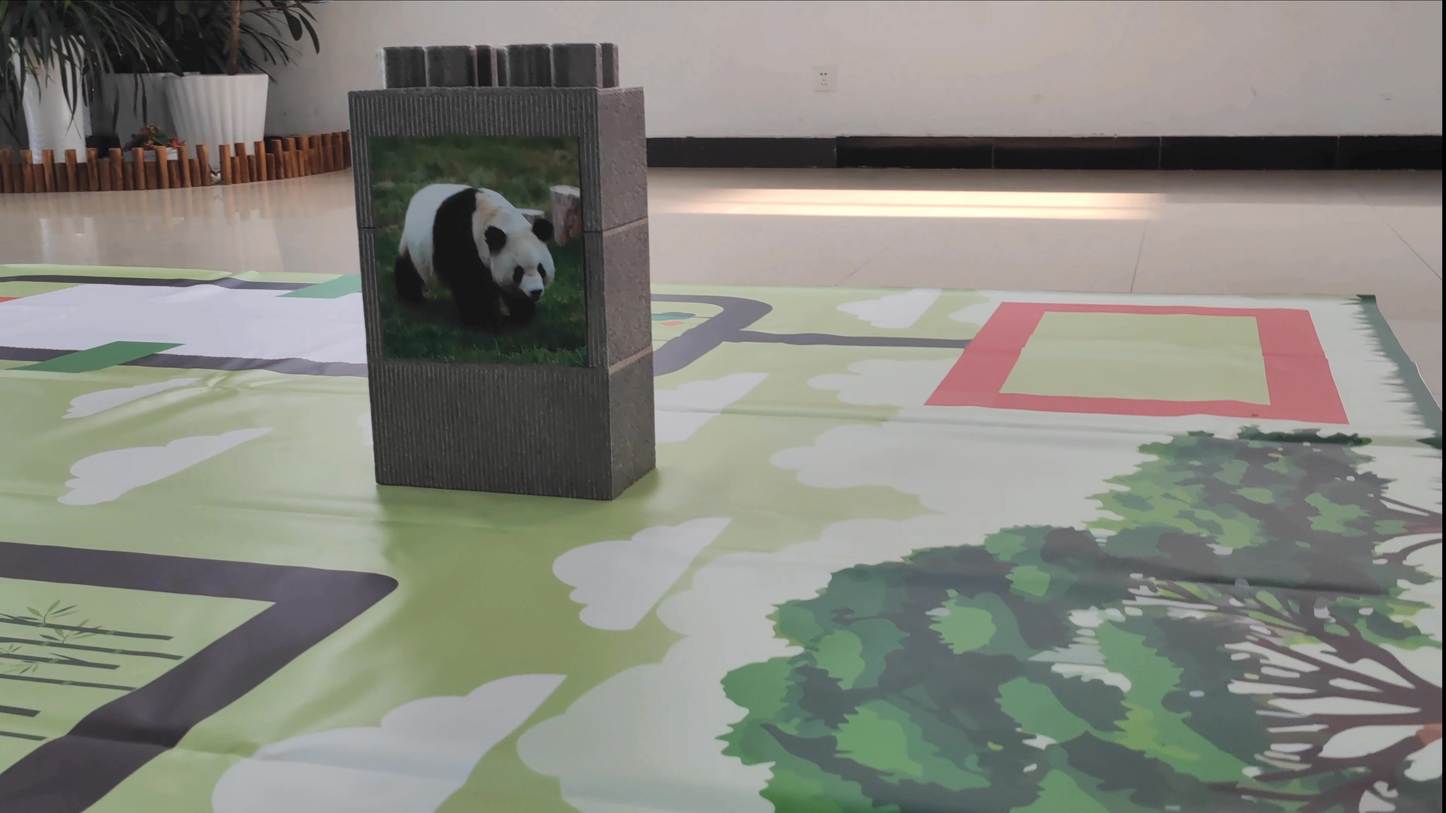panda: (372, 131, 582, 362)
